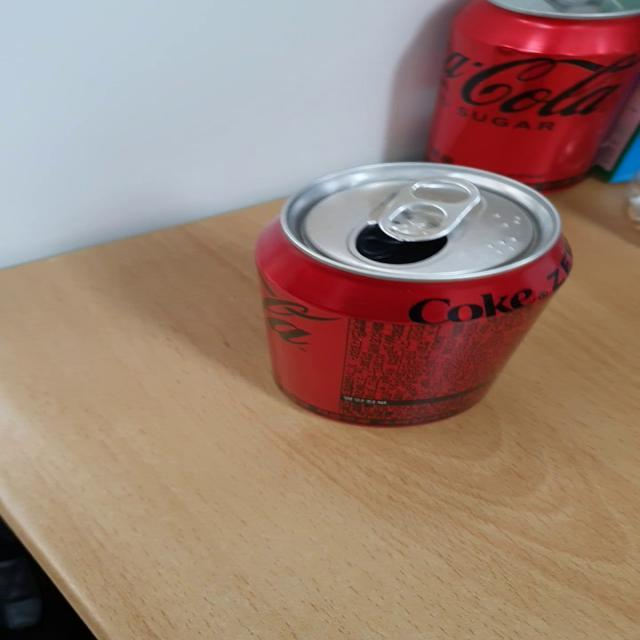coca-cola: (248, 156, 584, 440), (431, 0, 640, 200)
